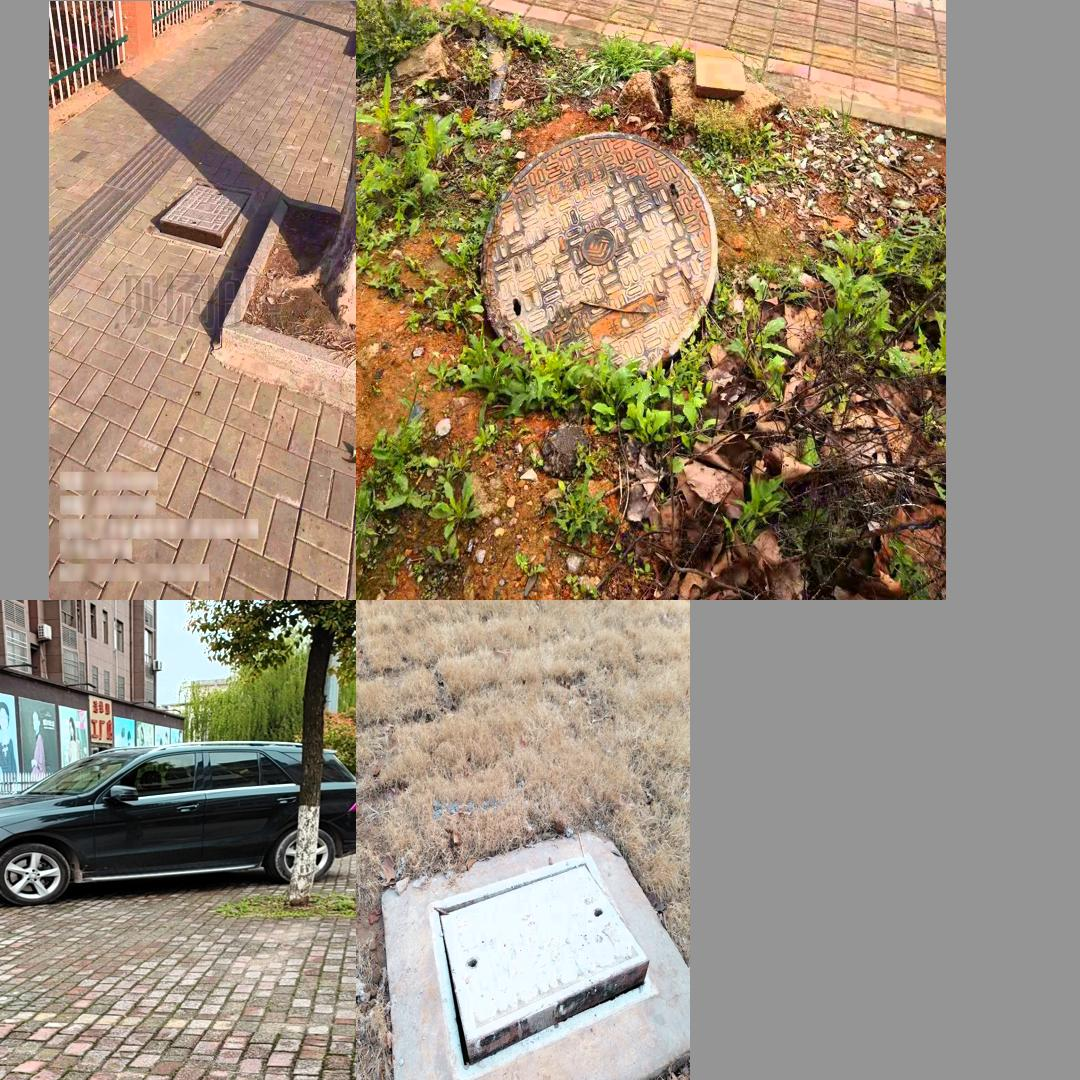uncovered: (480, 134, 719, 380), (427, 854, 662, 1080), (151, 179, 255, 253)
